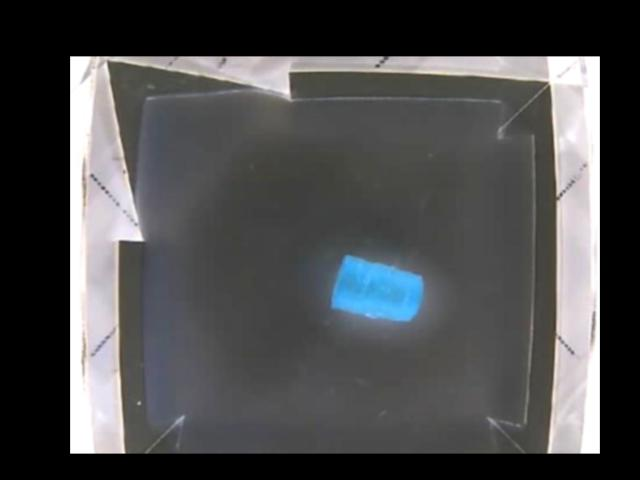Carrot: (331, 255, 425, 322)
